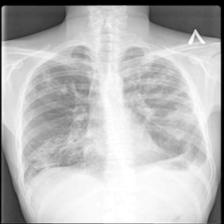tuberculosis: (17, 39, 212, 199)
